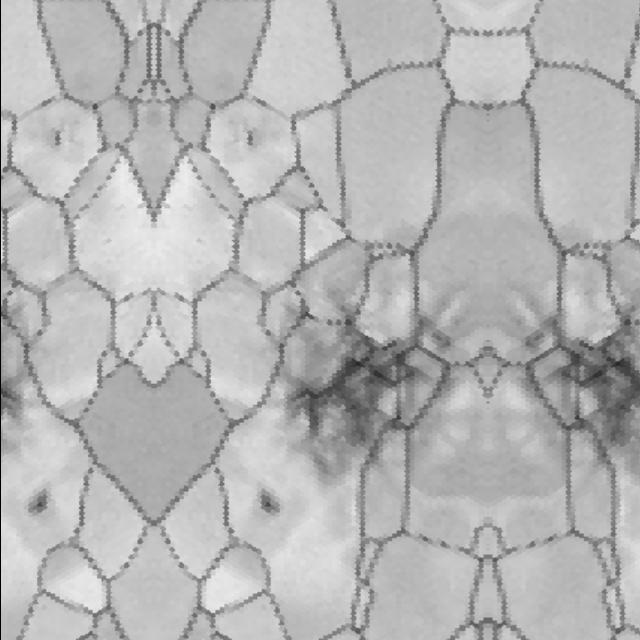good_void: (245, 270, 501, 498), (513, 293, 640, 483), (231, 106, 269, 151), (38, 106, 76, 151), (252, 485, 291, 525), (21, 486, 50, 523)
